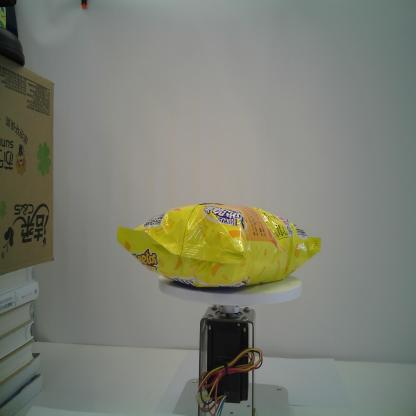Puffed Food: (115, 201, 324, 294)
